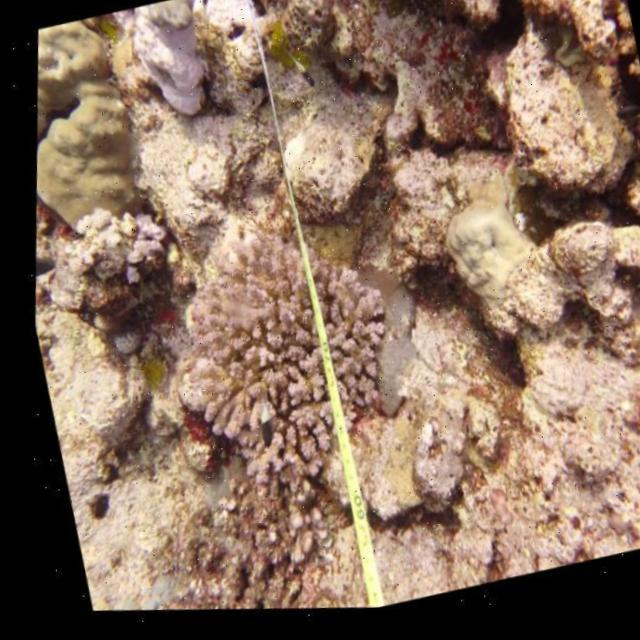Bleached Coral: (404, 184, 557, 350), (108, 0, 225, 145), (29, 202, 165, 299), (179, 0, 283, 94)
